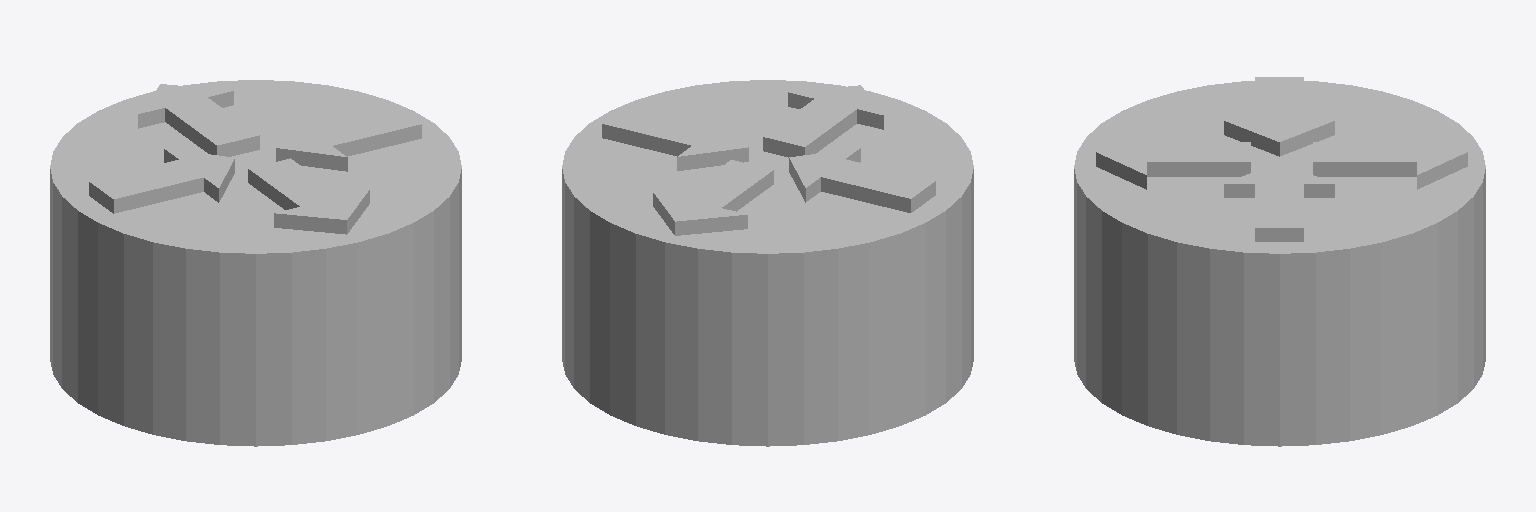
File: d-luyouqi2.obj
3 renders of one model, left to right at view 1: azimuth 30°, elevation 25°; view 2: azimuth 150°, elevation 25°; view 3: azimuth 270°, elevation 25°, orthographic.
Visible parts, largest first — view 1: d-luyouqi2; view 2: d-luyouqi2; view 3: d-luyouqi2.
Part boxes in pixels (bbox=[...]): d-luyouqi2: bbox=[50, 80, 461, 446]; d-luyouqi2: bbox=[562, 80, 973, 446]; d-luyouqi2: bbox=[1074, 77, 1485, 446].
Bounding box in the file's own units: 48.55 × 26.93 × 48.55.